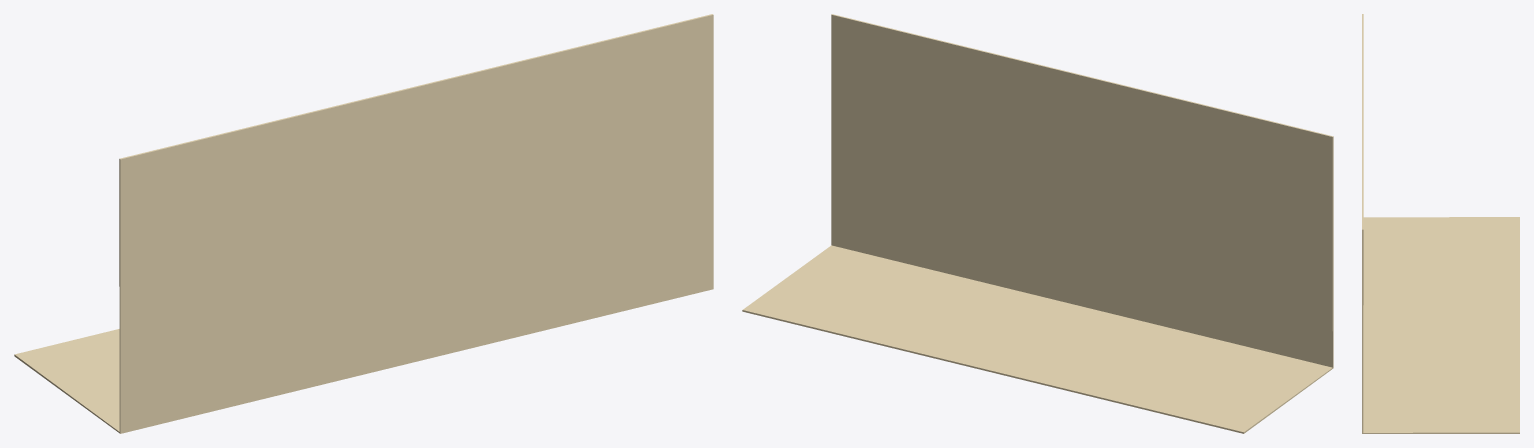
Rendered from wall.fbx.
3 renders of one model, left to right at view 1: azimuth 30°, elevation 25°; view 2: azimuth 150°, elevation 25°; view 3: azimuth 270°, elevation 25°, orthographic. The views are drawn at different scales.
Visible parts, largest first — view 1: background; view 2: background; view 3: background.
Boxes of the visible parts, x1,y1,x2,y2 form: background: [14, 14, 713, 433]; background: [742, 14, 1333, 433]; background: [1362, 14, 1519, 433].
Bounding box in the file's own units: 15858 × 7013 × 4908.
